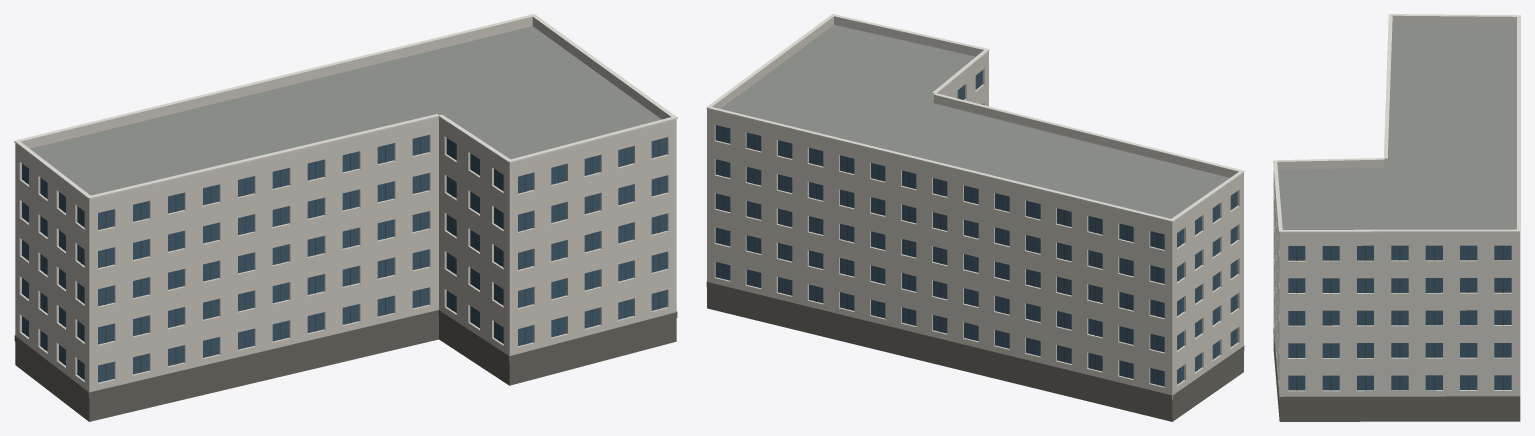
The picture shows the model from 3 angles, left to right: view 1: azimuth 30°, elevation 25°; view 2: azimuth 150°, elevation 25°; view 3: azimuth 270°, elevation 25°; orthographic projection. The views are drawn at different scales.
Visible parts, largest first — view 1: globalHall__wall, globalHall__roof, globalHall__glass, globalHall__base, globalHall__parapet, globalHall__trim, globalHall__frame; view 2: globalHall__wall, globalHall__roof, globalHall__glass, globalHall__base, globalHall__parapet, globalHall__trim, globalHall__frame; view 3: globalHall__roof, globalHall__wall, globalHall__glass, globalHall__base, globalHall__parapet, globalHall__trim, globalHall__frame.
Boxes of the visible parts, x1=… form: globalHall__wall: x1=15, y1=125, x2=676, y2=397; globalHall__roof: x1=30, y1=26, x2=661, y2=195; globalHall__glass: x1=22, y1=135, x2=667, y2=382; globalHall__base: x1=14, y1=310, x2=677, y2=421; globalHall__parapet: x1=15, y1=16, x2=676, y2=207; globalHall__trim: x1=14, y1=14, x2=677, y2=199; globalHall__frame: x1=26, y1=137, x2=659, y2=380; globalHall__wall: x1=707, y1=58, x2=1243, y2=400; globalHall__roof: x1=721, y1=25, x2=1229, y2=218; globalHall__glass: x1=715, y1=70, x2=1237, y2=386; globalHall__base: x1=706, y1=281, x2=1244, y2=421; globalHall__parapet: x1=707, y1=16, x2=1243, y2=229; globalHall__trim: x1=706, y1=14, x2=1244, y2=222; globalHall__frame: x1=723, y1=73, x2=1233, y2=385; globalHall__roof: x1=1278, y1=24, x2=1516, y2=229; globalHall__wall: x1=1273, y1=171, x2=1520, y2=400; globalHall__glass: x1=1288, y1=245, x2=1511, y2=390; globalHall__base: x1=1273, y1=328, x2=1520, y2=421; globalHall__parapet: x1=1277, y1=15, x2=1520, y2=239; globalHall__trim: x1=1273, y1=14, x2=1520, y2=232; globalHall__frame: x1=1296, y1=245, x2=1503, y2=390.
Bounding box in the file's own units: 46.05 × 18.8 × 22.16.
